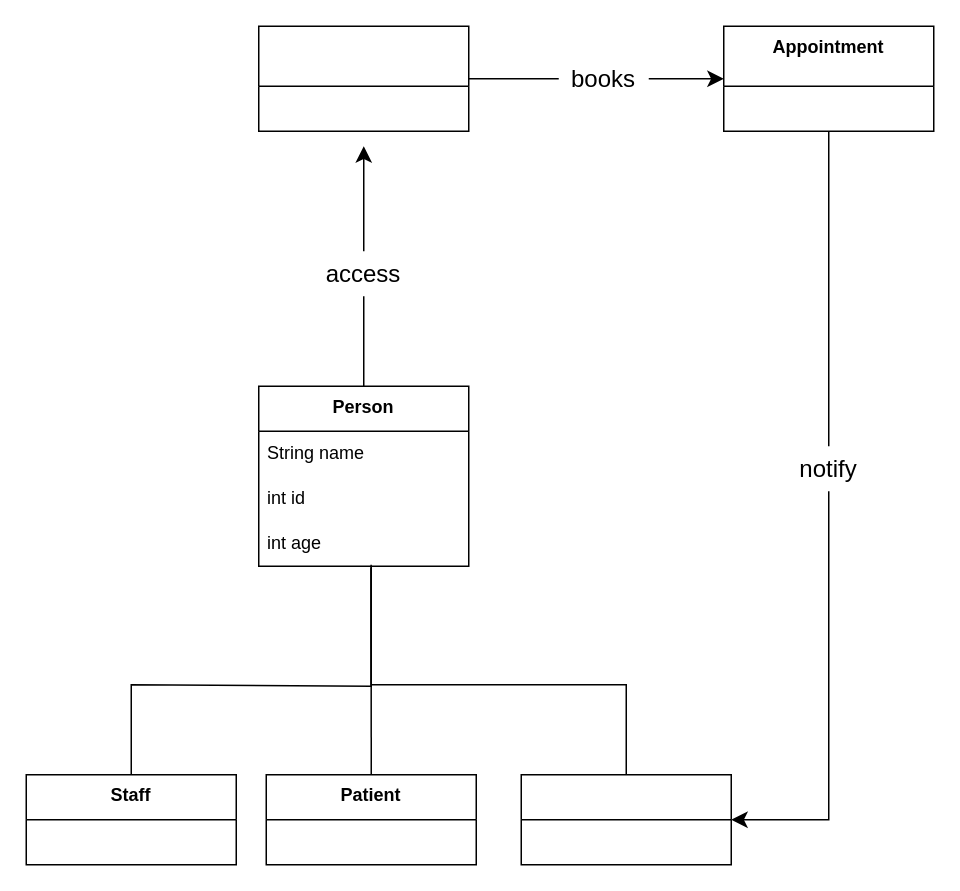
The diagram is 960 pixels wide and 891 high, and some of its shapes have lost their labels. Here are the shapes that lost their labels. From the top down, the centre of each, then its label:
At (363,78): "Booking Sy stem".
At (625,819): "Doctor".
